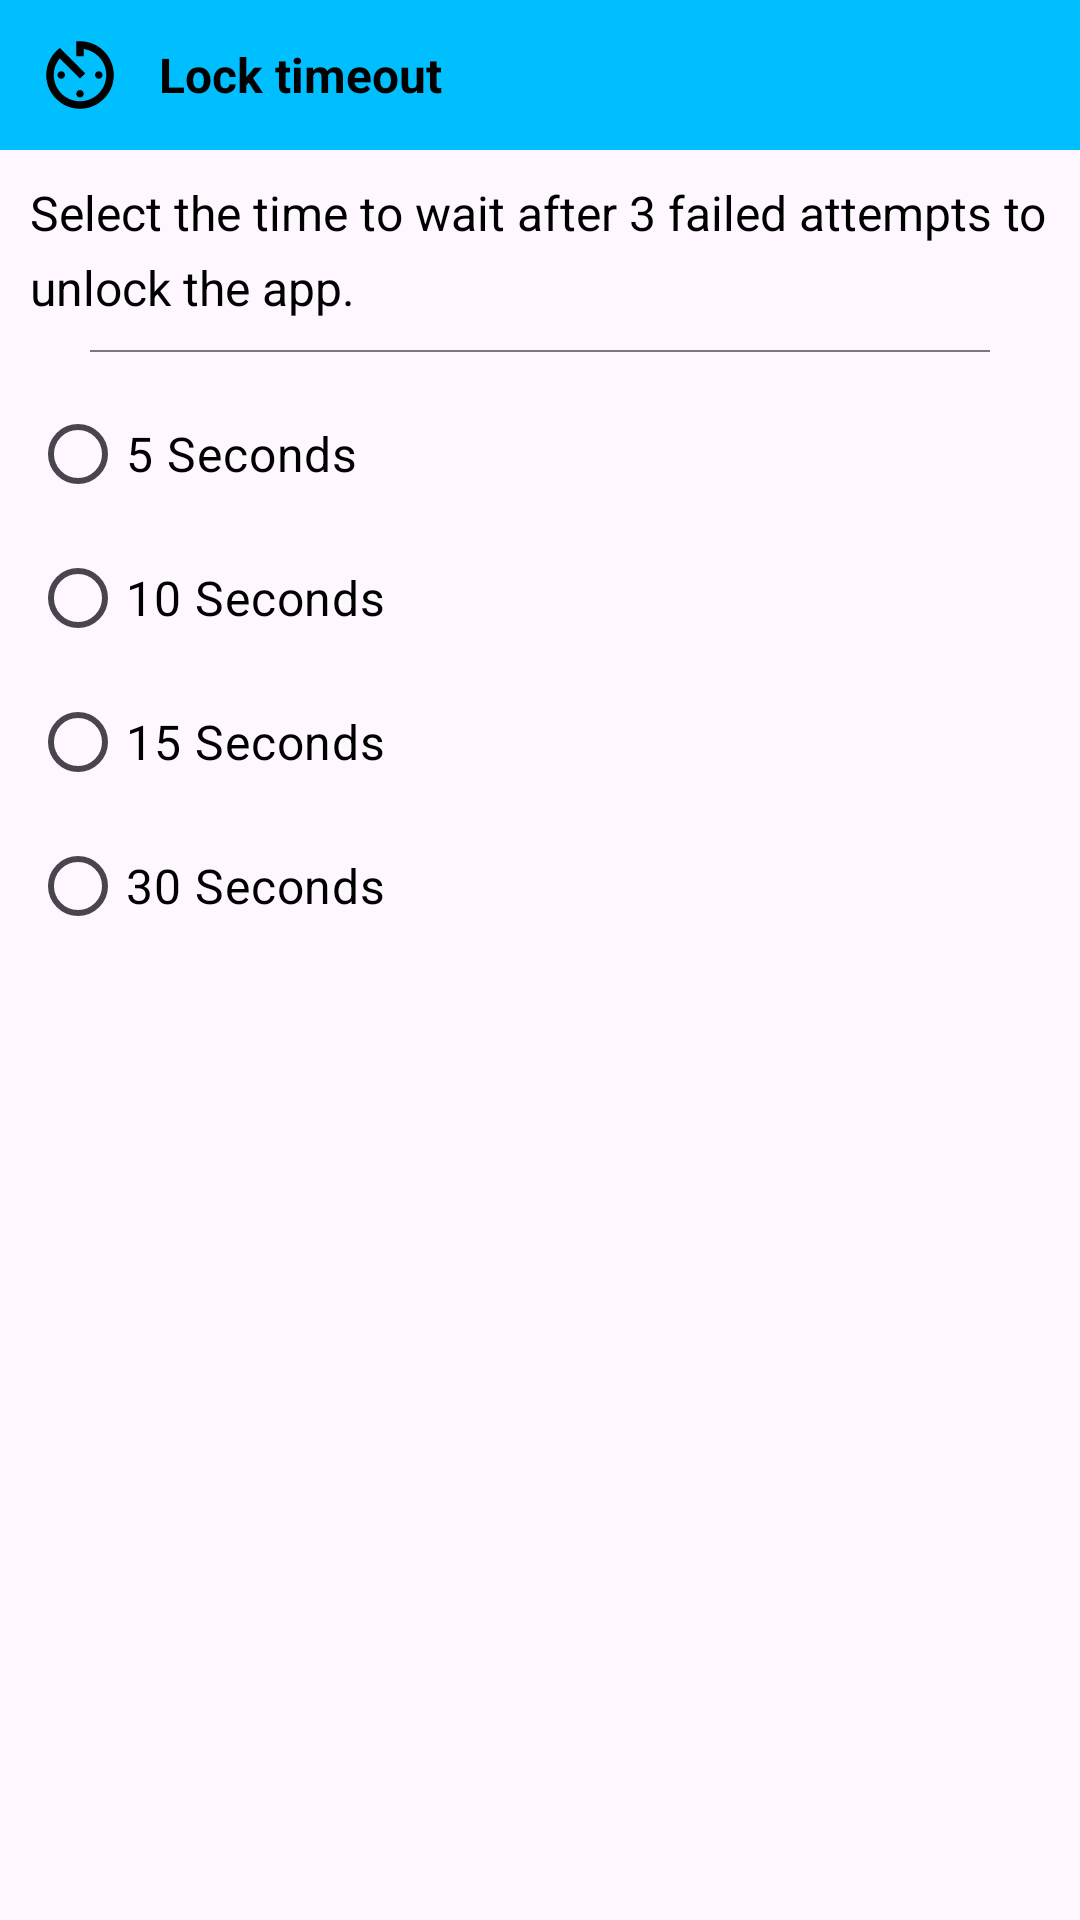

Named icons in this screenshot (1080 × 1920) and their bounding boxes, (x1, y1, x2, y2):
timer: (46, 41, 114, 109)
